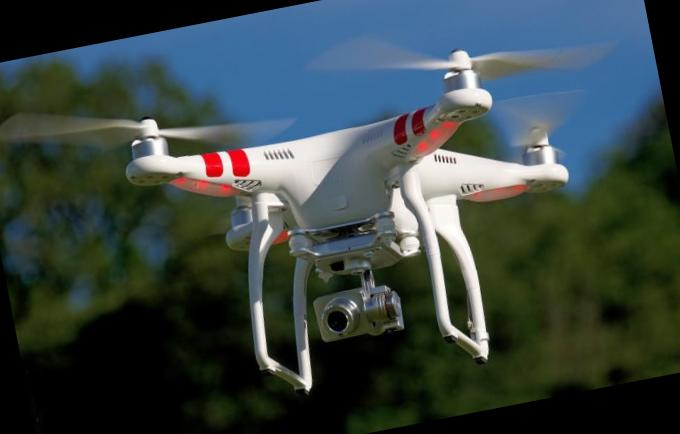drone: (53, 7, 631, 334)
